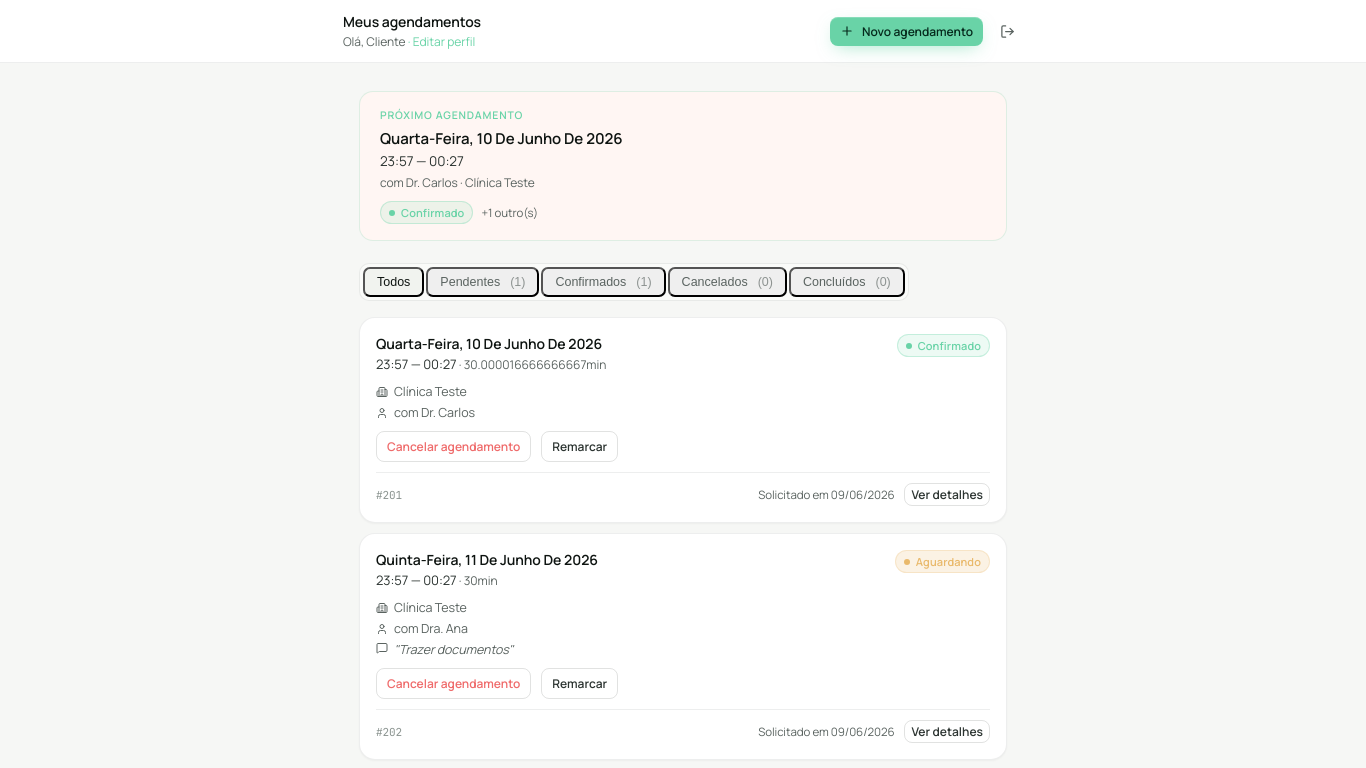
Scenario: MyAppointmentsPage — modal de remarcar › abre e fecha o modal de remarcar
Click the button "Remarcar" below "30.000016666666667min".
click(580, 447)  # box [541,431,618,462]
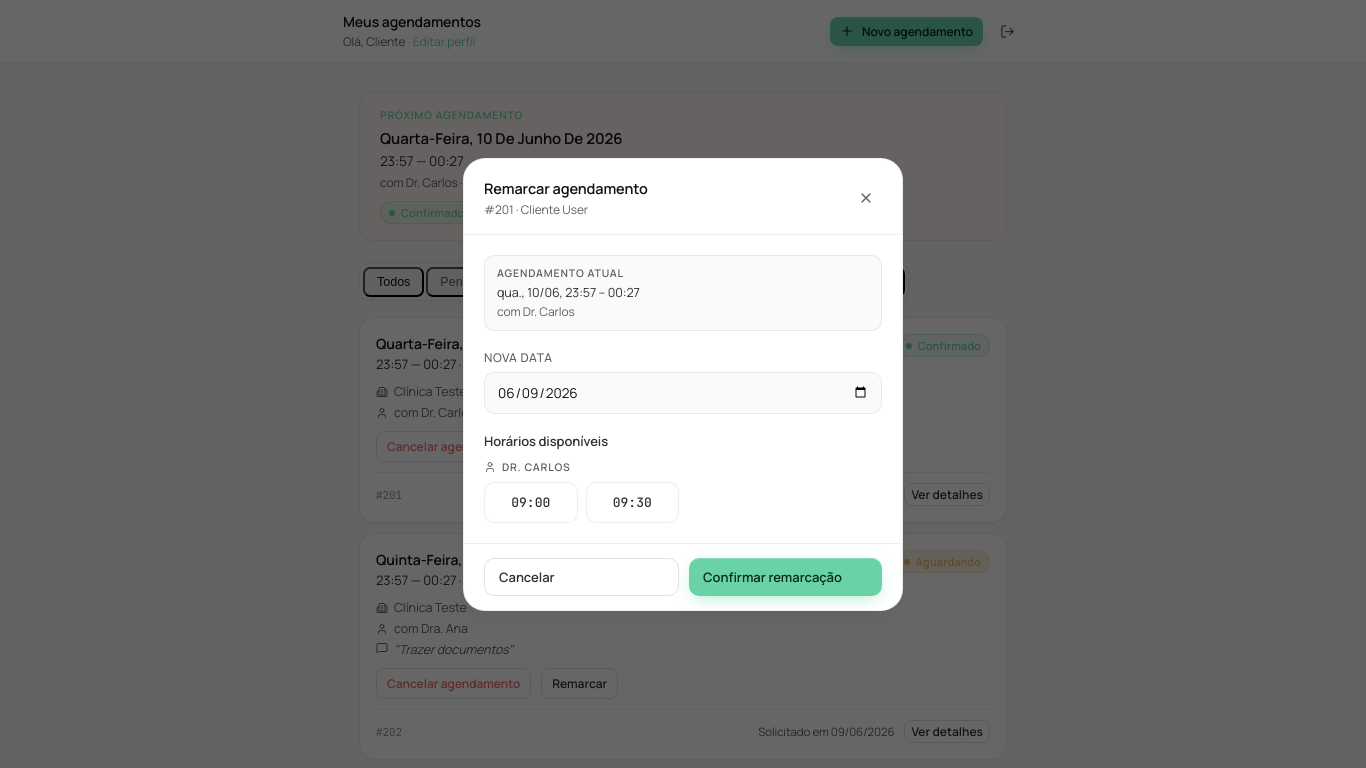
Check: the text "Remarcar agendamento" is shown, box [484,178,648,198]
Note: Fechar via botão "Cancelar" no footer do modal (o X do header é ícone SVG sem texto)
Click the button "Cancelar".
click(582, 577)  # box [484,558,679,596]
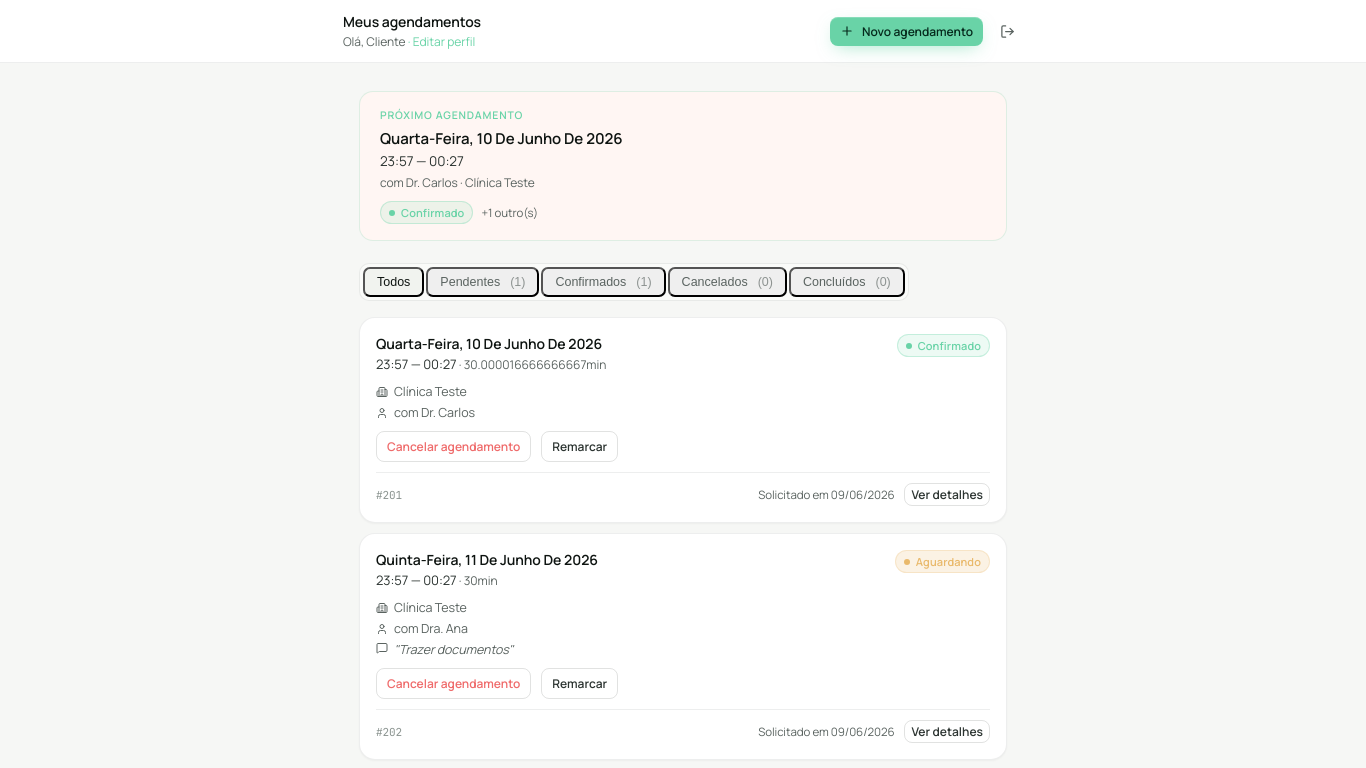
Check: the text "Remarcar agendamento" is gone
